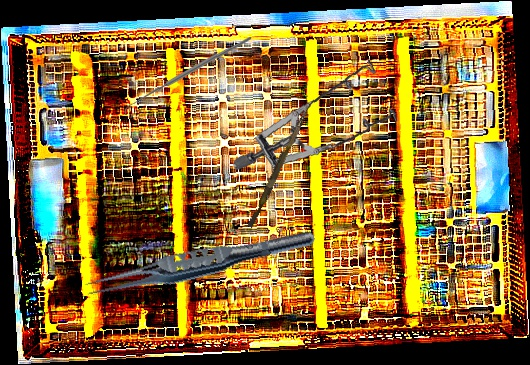Hook Surgical: (125, 34, 251, 118)
Pusher: (247, 101, 311, 230)
Speculum: (232, 46, 404, 186)
Tissue Forceps: (80, 219, 318, 307)
